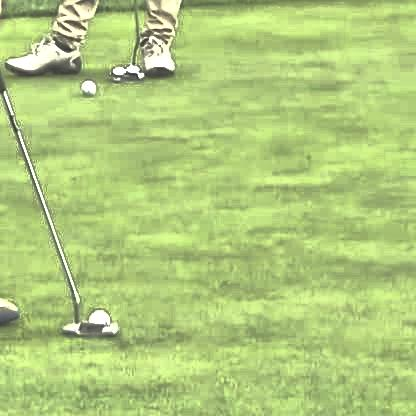golfball: (87, 306, 111, 325)
